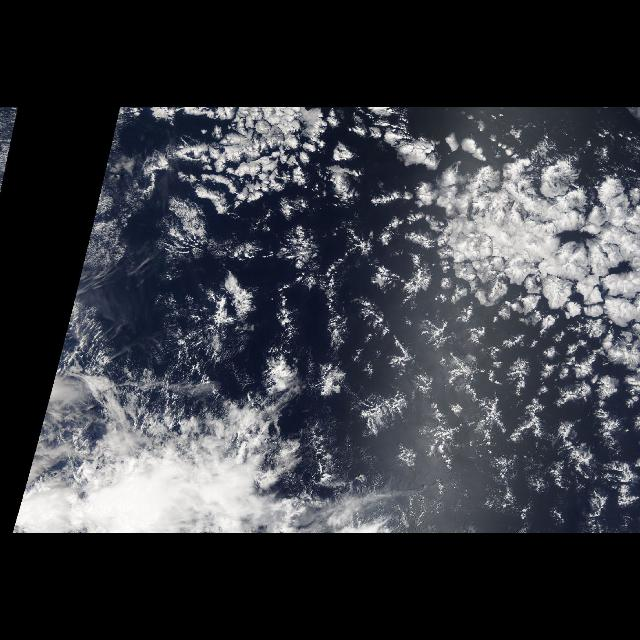Flower: (165, 111, 640, 421)
Gravel: (160, 210, 640, 488)
